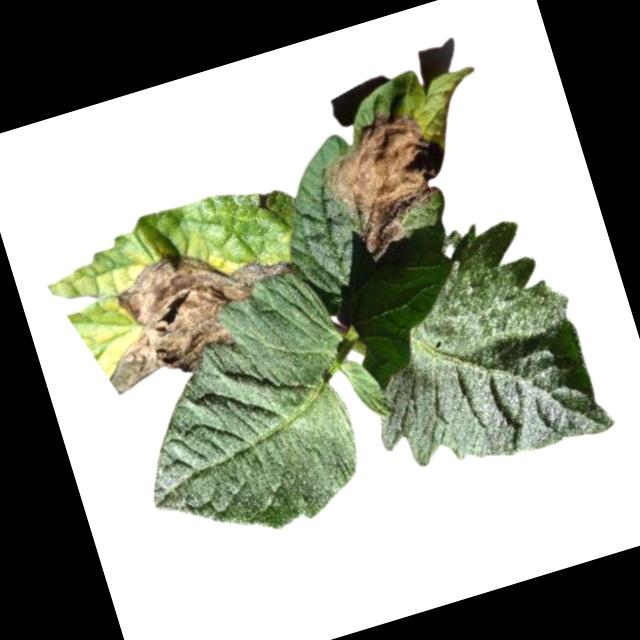Late_blight: (78, 217, 316, 399), (309, 92, 467, 263)
